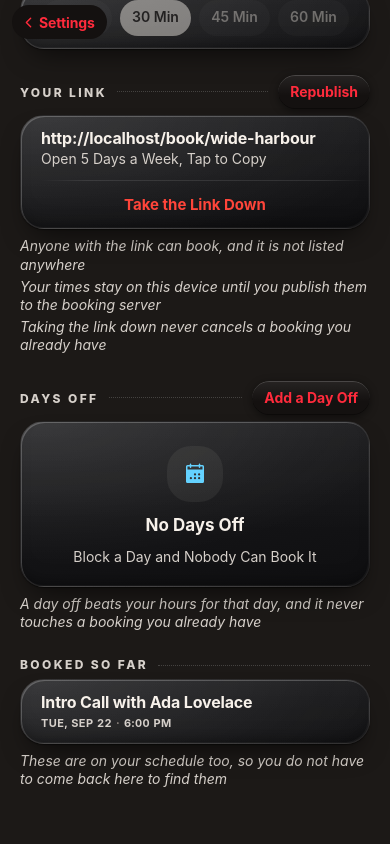
Test: BookingPage › takes two deliberate steps to reach the cancel sheet, and touches nothing on the way
(page scrolled)
Click the text "Intro Call with Ada Lovelace": (147, 702) [41,692,252,712]
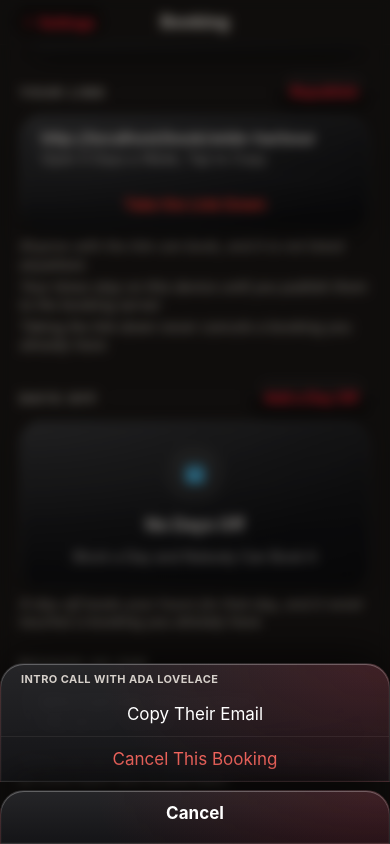
Click the button "Cancel This Booking": (195, 758) [1,736,389,781]
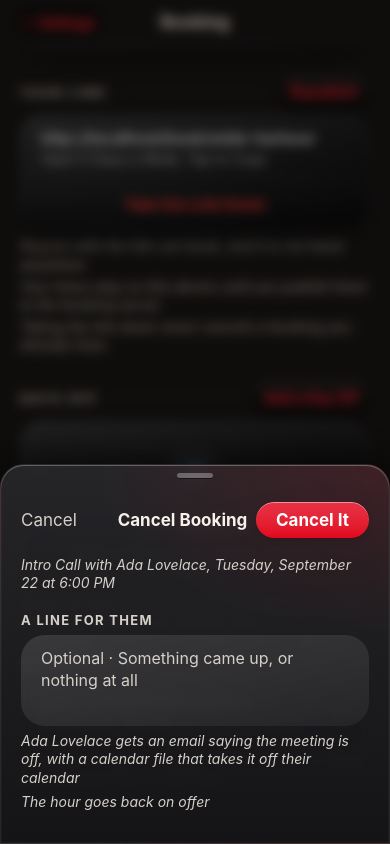
Expected: the text "takes it off their calendar" is shown, [21,732,349,786]
